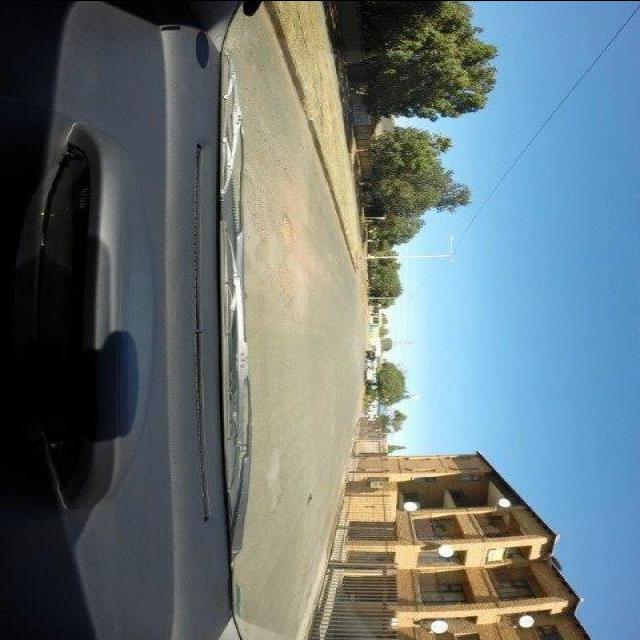lubang: (266, 444, 287, 510), (273, 262, 300, 308), (278, 211, 298, 255), (302, 491, 318, 506)
